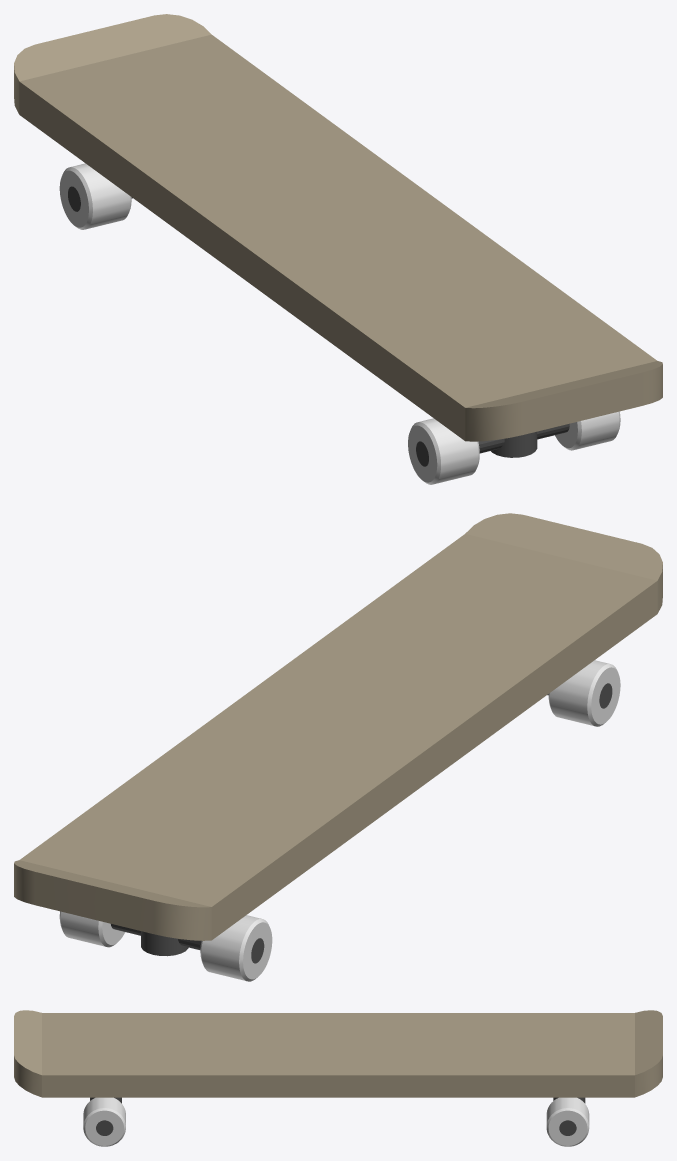
File: skateboard.fbx
The picture shows the model from 3 angles, top to bottom: view 1: azimuth 30°, elevation 25°; view 2: azimuth 150°, elevation 25°; view 3: azimuth 270°, elevation 25°; orthographic projection. The views are drawn at different scales.
Visible parts, largest first — view 1: Skate_board; view 2: Skate_board; view 3: Skate_board.
Boxes of the visible parts, x1,y1,x2,y2 form: Skate_board: (14,14,662,484); Skate_board: (14,513,662,981); Skate_board: (14,1010,662,1146).
Size of the model in its own units: 1 by 0.614 by 4.39.
